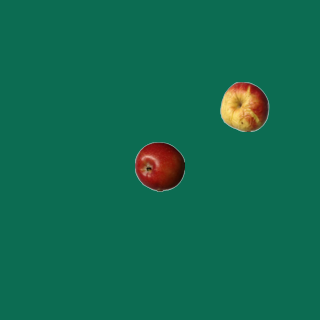Apple Braeburn: (134, 141, 184, 191)
Apple Red Yellow 1: (219, 81, 269, 131)
